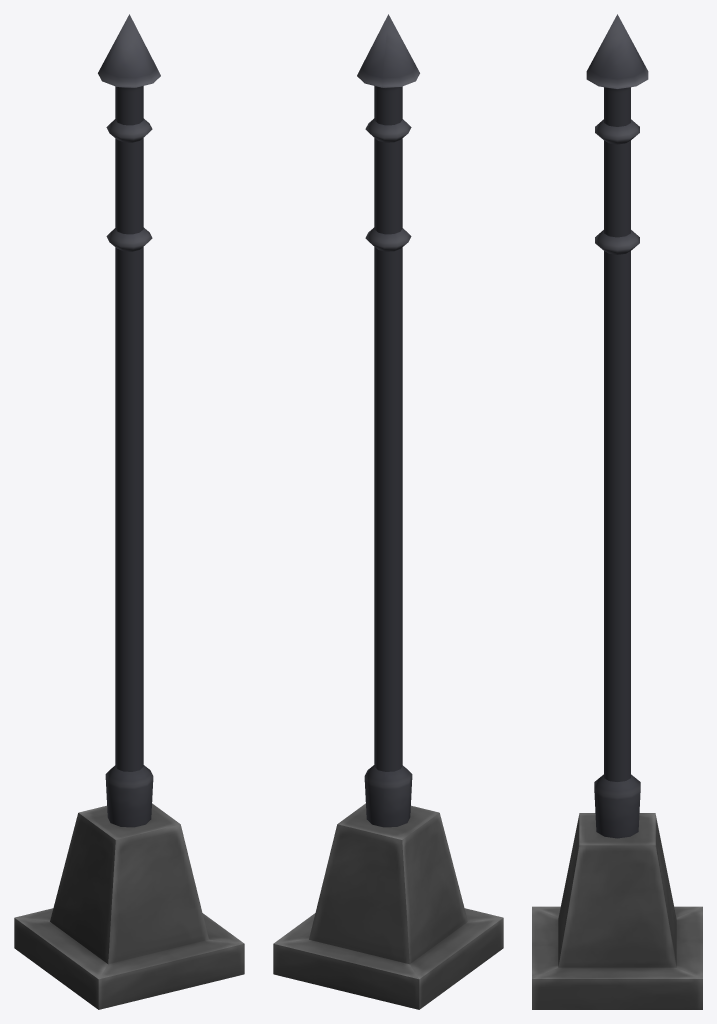
Rendered from Banner_Pole.fbx.
3 renders of one model, left to right at view 1: azimuth 30°, elevation 25°; view 2: azimuth 150°, elevation 25°; view 3: azimuth 270°, elevation 25°, orthographic.
Visible parts, largest first — view 1: polySurface2073; view 2: polySurface2073; view 3: polySurface2073.
Part boxes in pixels (box(x1,y1,x2,y2)): polySurface2073: box(14, 14, 244, 1009); polySurface2073: box(273, 14, 503, 1009); polySurface2073: box(532, 14, 702, 1009).
Size of the model in its own units: 49.18 by 305 by 49.18.
Materials: 1 (1 with a texture image).
